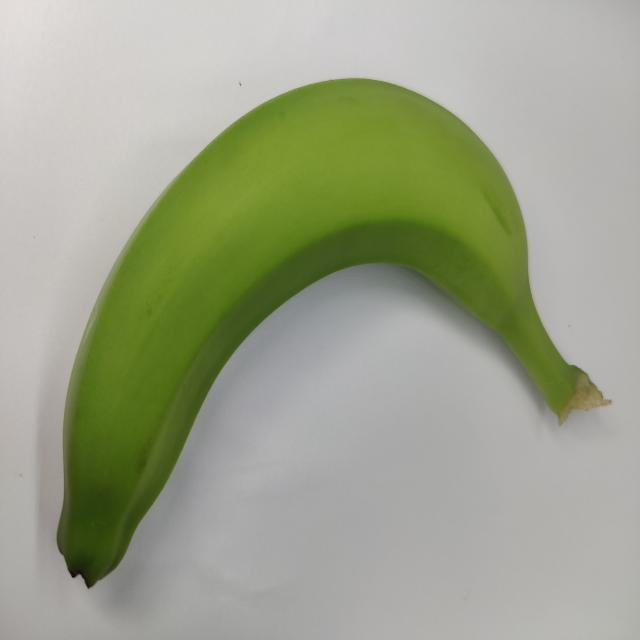raw: (46, 70, 619, 612)
